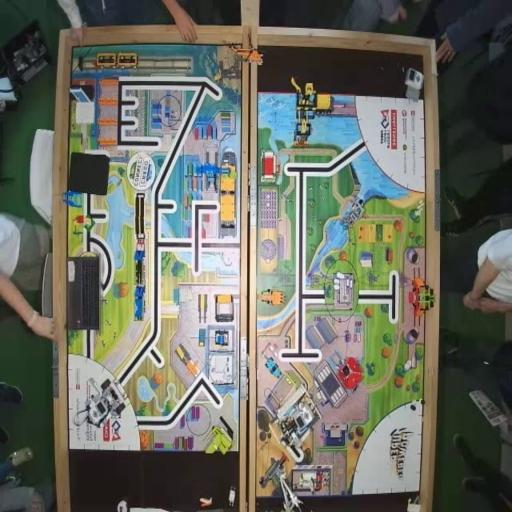lego_robot: (262, 371, 320, 464), (74, 376, 126, 429)
